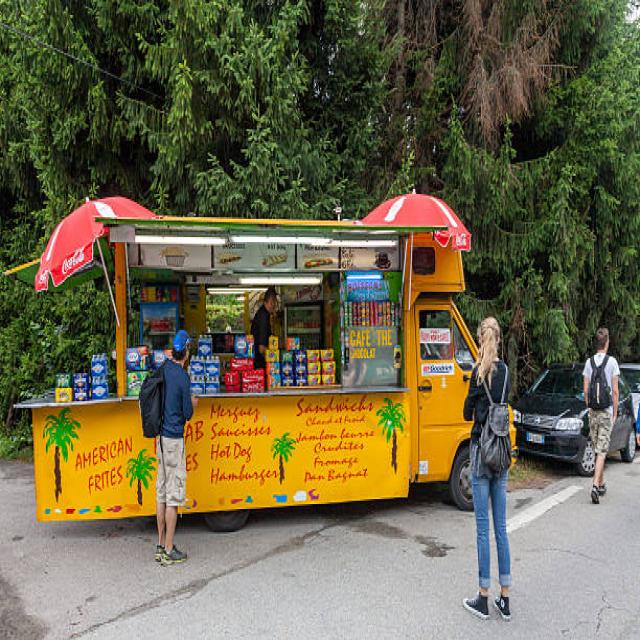Emperan: (9, 169, 529, 544)
